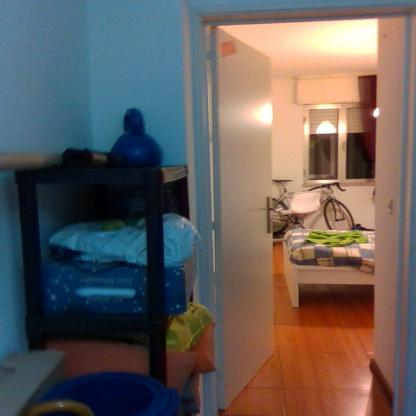open: (186, 8, 415, 416)
